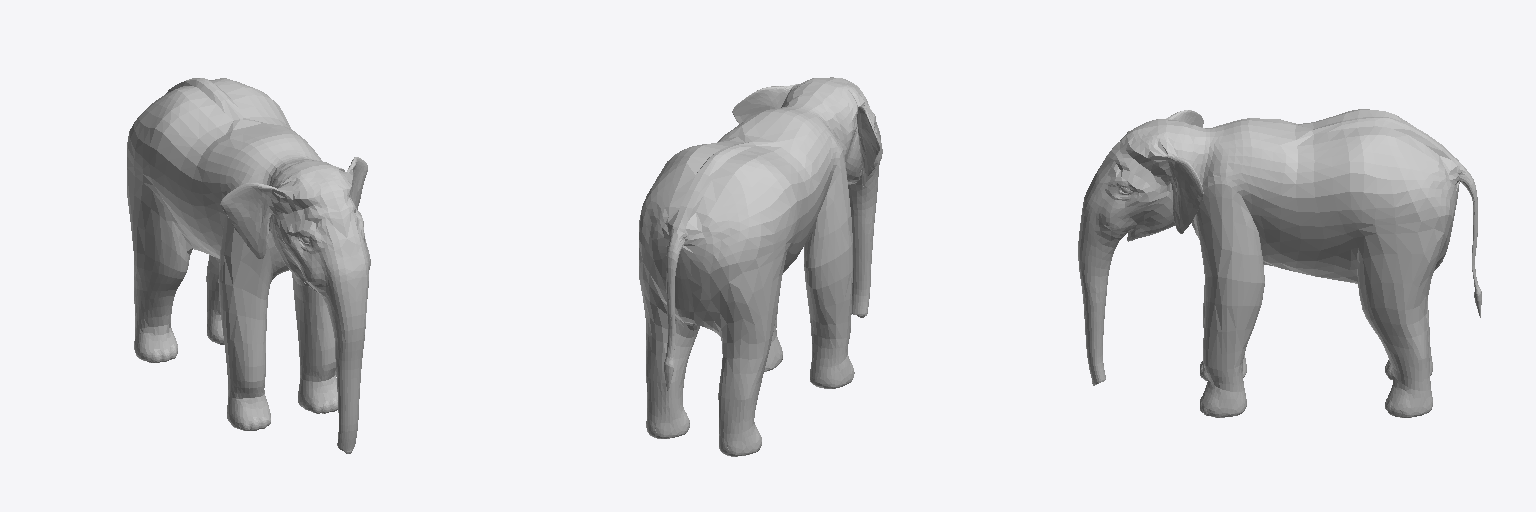
Rendered from ELE_AF2.OBJ.
3 views of the same model, side by side, from view 1: azimuth 30°, elevation 25°; view 2: azimuth 150°, elevation 25°; view 3: azimuth 270°, elevation 25° (orthographic).
Visible parts, largest first — view 1: ele2_body; view 2: ele2_body; view 3: ele2_body.
Boxes of the visible parts, <box> form: ele2_body: <box>127,78,370,453</box>; ele2_body: <box>639,77,882,456</box>; ele2_body: <box>1078,109,1481,417</box>.
Size of the model in its own units: 2.04 by 3.65 by 4.83.